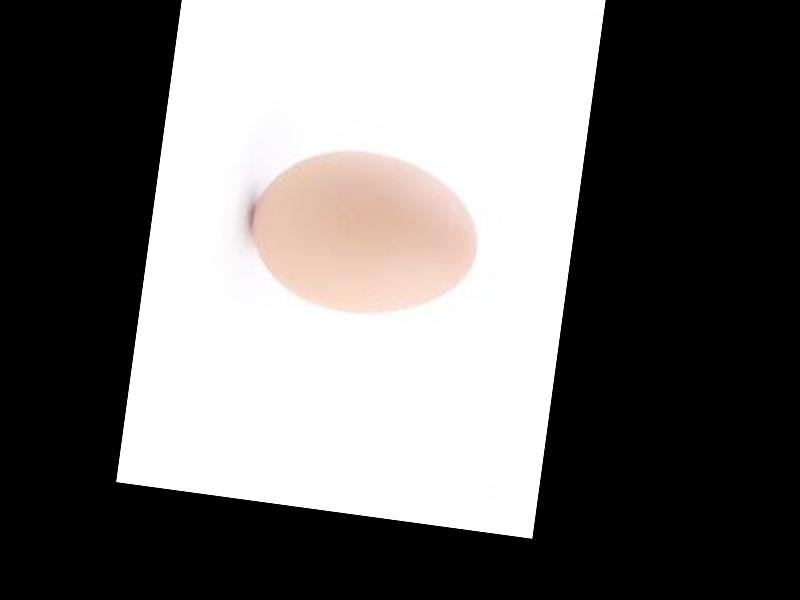Eggs: (242, 136, 487, 327)
